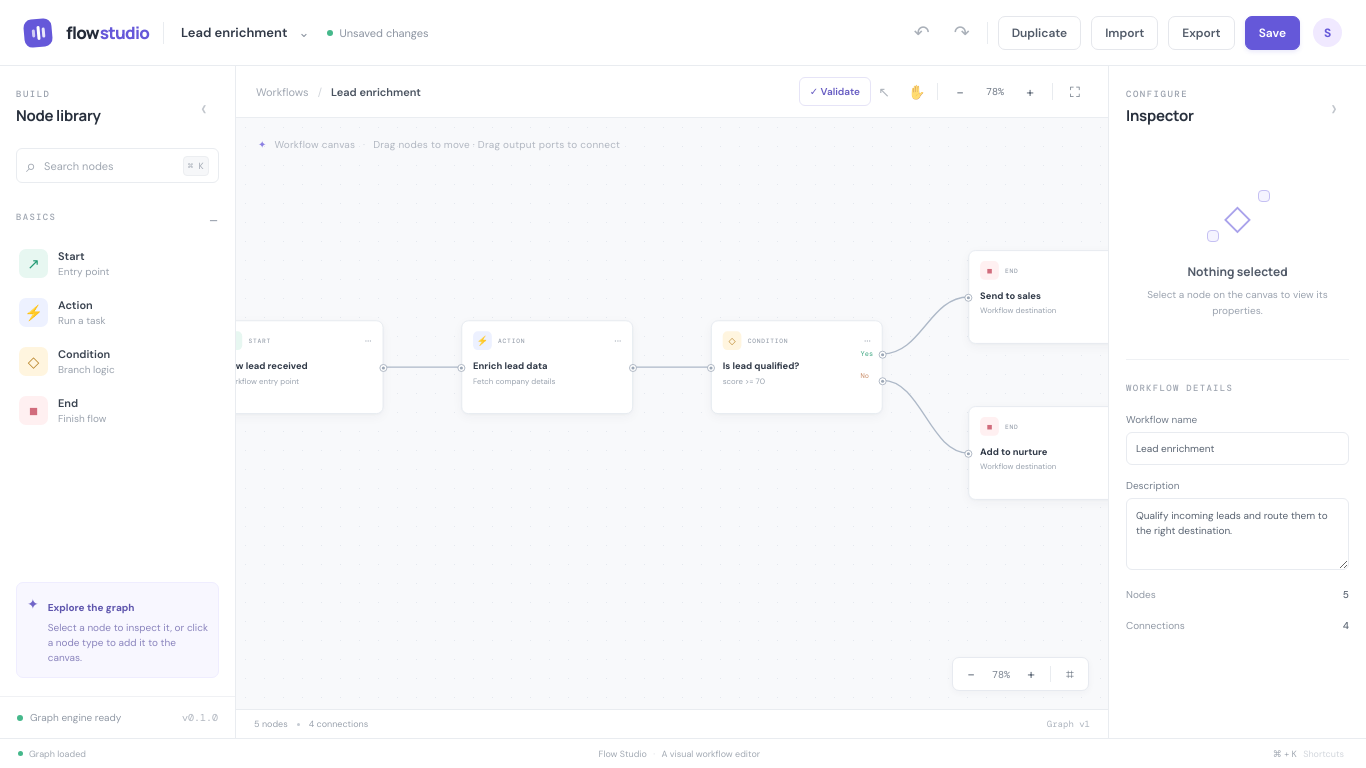
workflow editor interactions › edits a selected node label in the inspector
Click the element named "Node Enrich lead data".
click(547, 367)  # box left=461, top=320, right=633, bottom=414
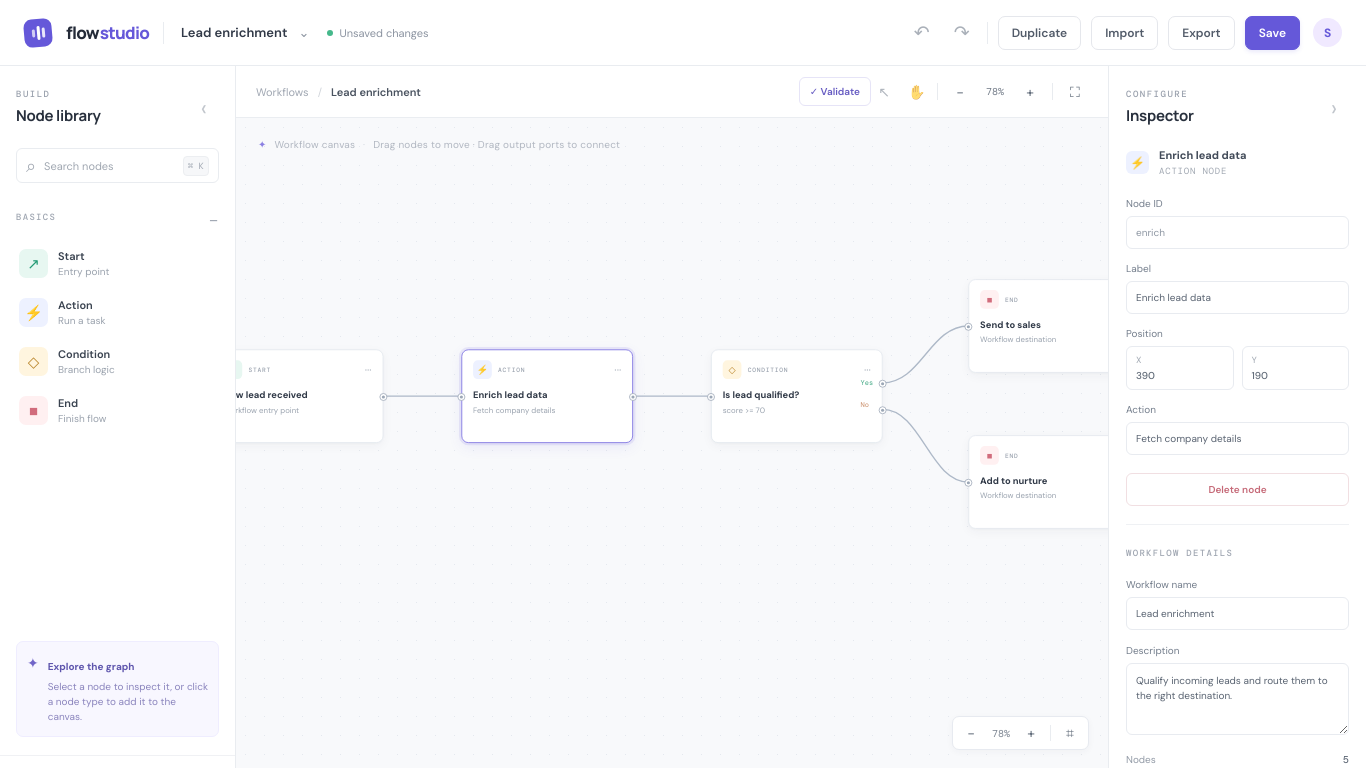
Replace the text in the field labelled "Label" with "Normalize lead" at (1238, 298), box left=1126, top=281, right=1349, bottom=314
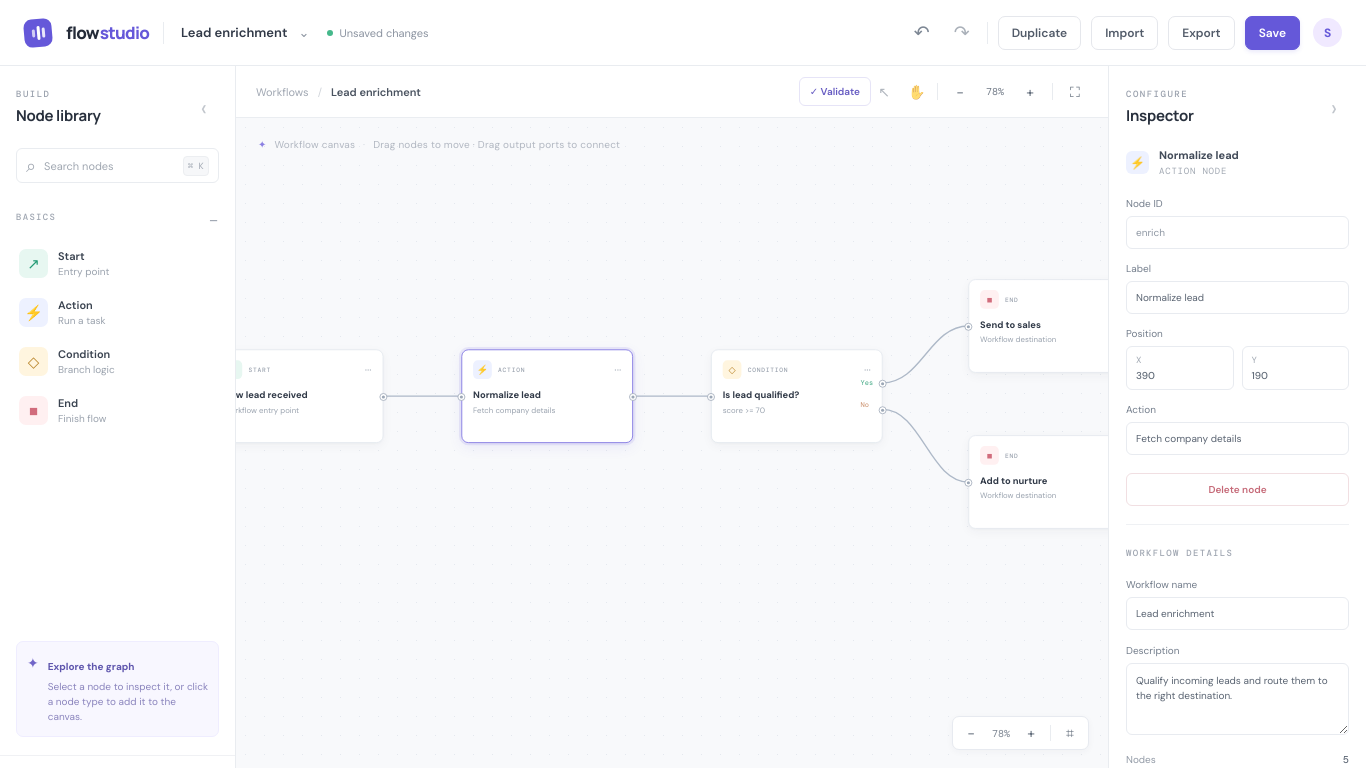
Now the element named "Node Normalize lead" is shown, box left=461, top=349, right=633, bottom=443
